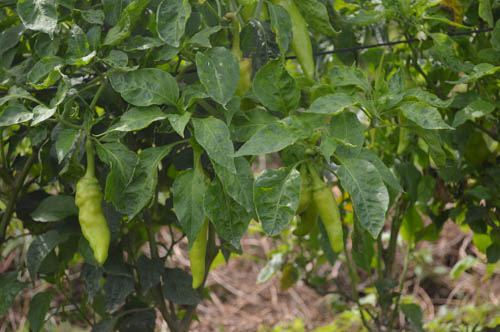ChiliPepper: (72, 183, 110, 266), (181, 213, 213, 298), (316, 187, 347, 253), (288, 8, 316, 72), (284, 188, 315, 241)
